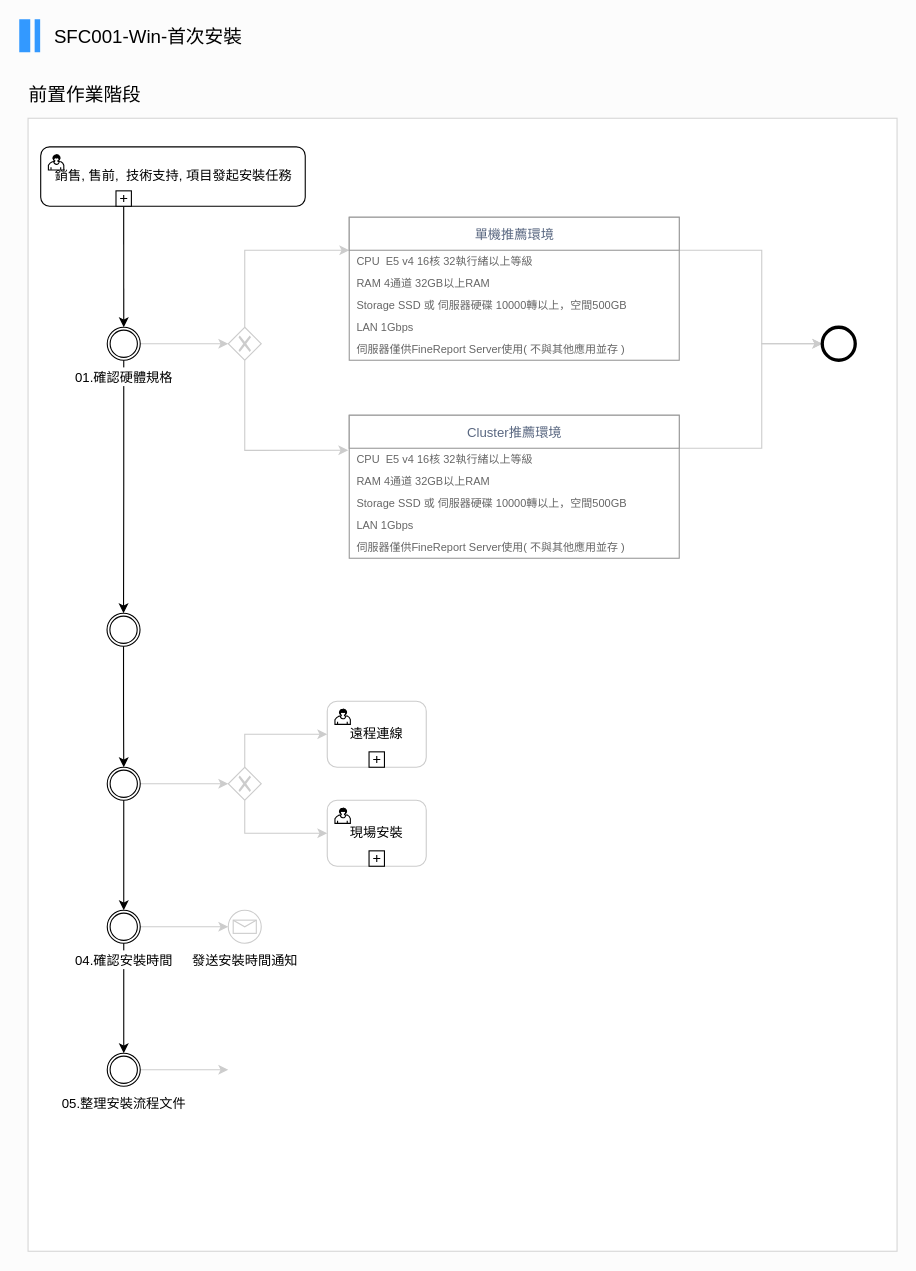
This 916x1271 diagram has some shape labels left out. The shapes that lost their labels are listed below. From the top down, each one's centre as x and y in pixels, then its label:
(838,343): 記錄硬體規格
(123,629): 02.確認OS版本
(123,783): 03.確認遠程或現場
